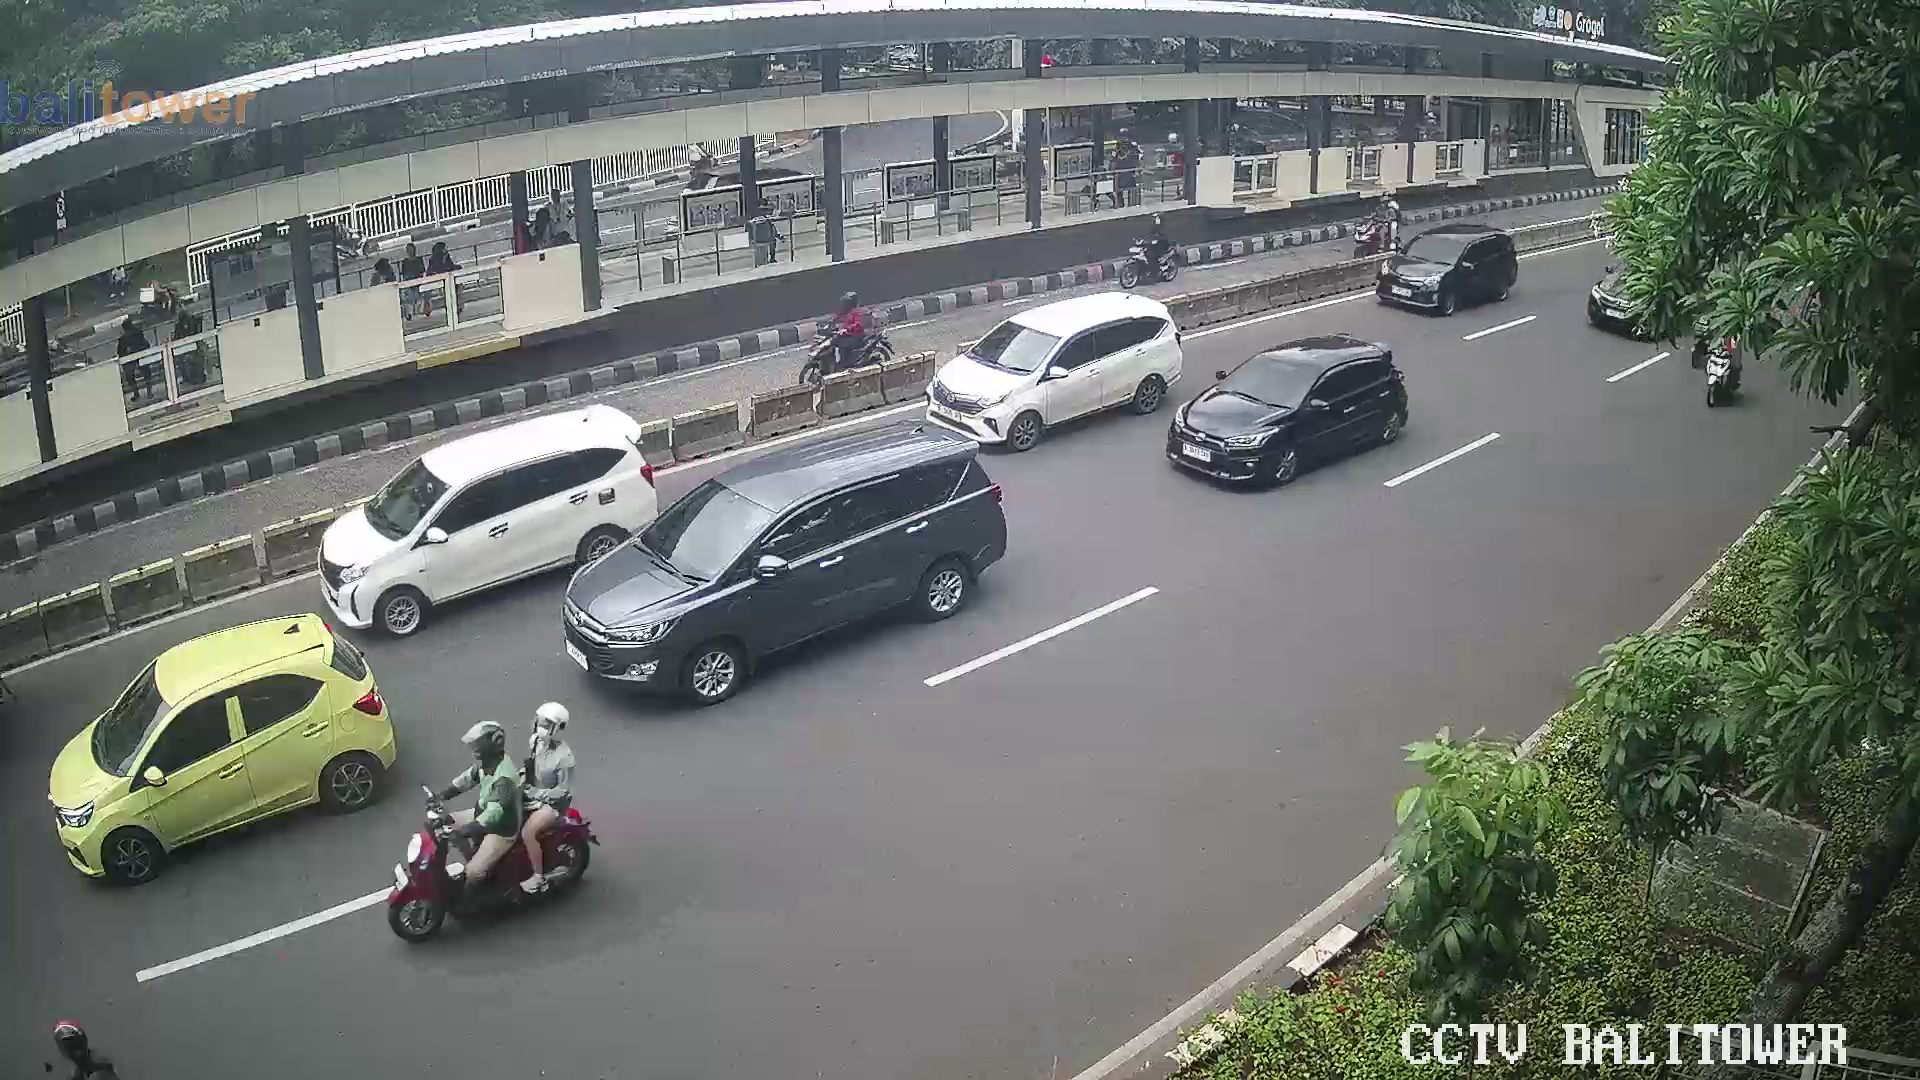half-face helmet: (461, 724, 510, 773), (53, 1018, 96, 1071), (529, 700, 566, 753)
